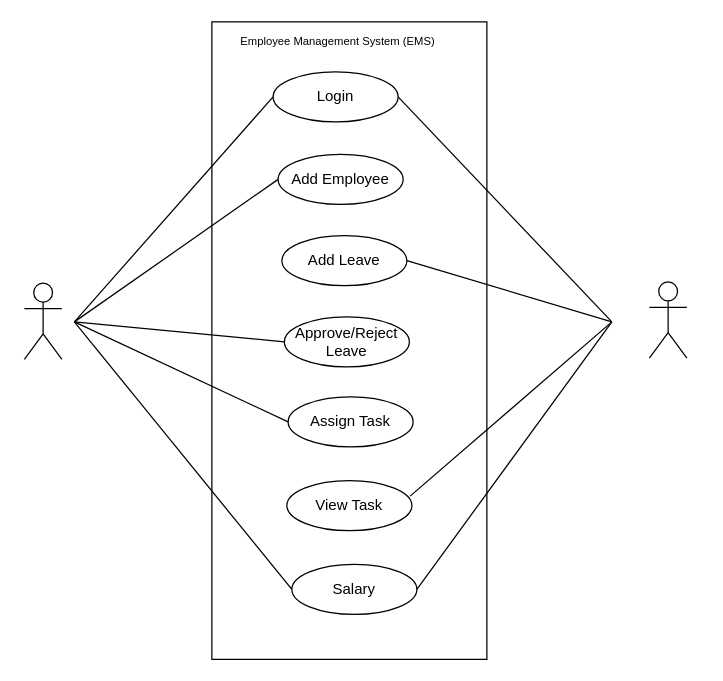
Some shapes in this 723 by 681 pixel diagram are drawn without their labels. The centre of each missing label's shape, as x and y in pixels:
"Admin" goes at (42,320).
"Employee" goes at (667,319).
